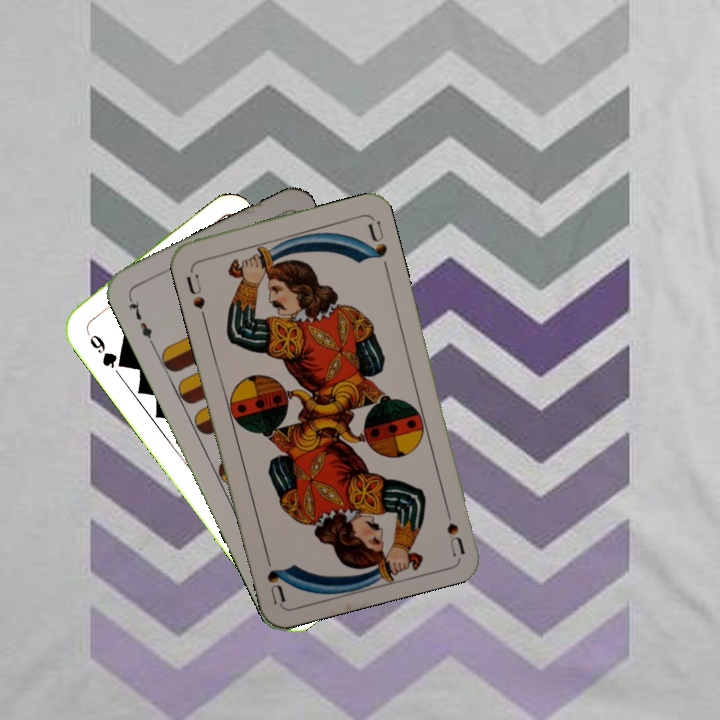E7: (124, 292, 156, 348)
G9: (81, 325, 128, 371)
SU: (440, 498, 467, 557), (182, 270, 209, 323)
